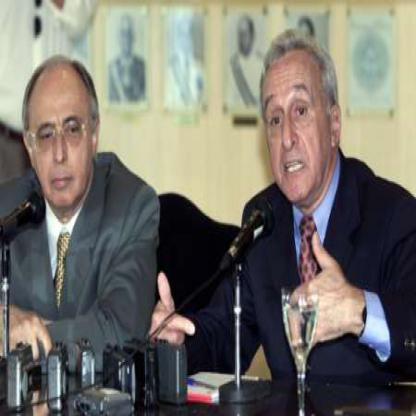face: (262, 39, 333, 207), (30, 59, 95, 211)
